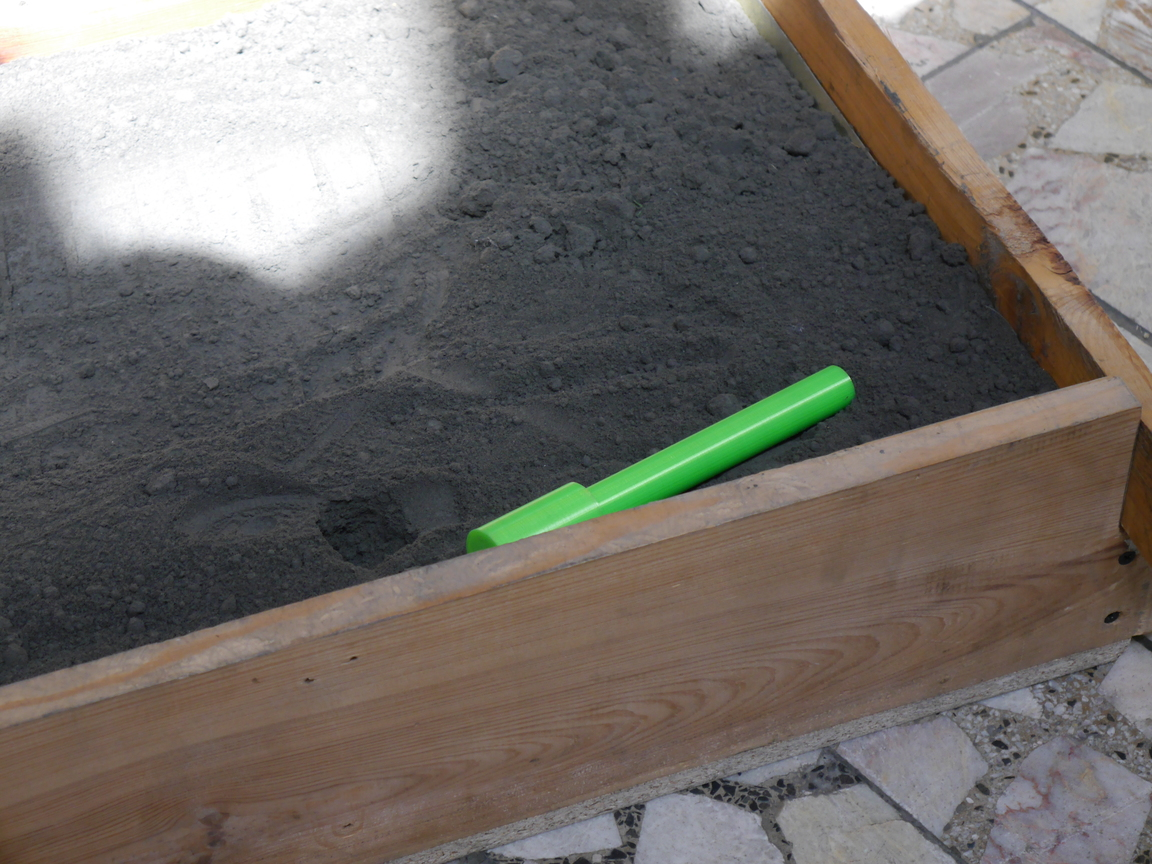cargo_g: (465, 364, 855, 556)
